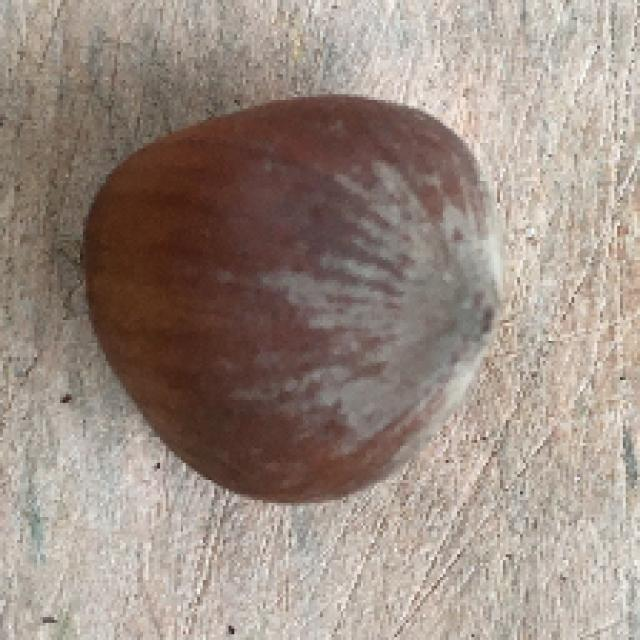qualityHazelnut: (74, 92, 508, 502)
